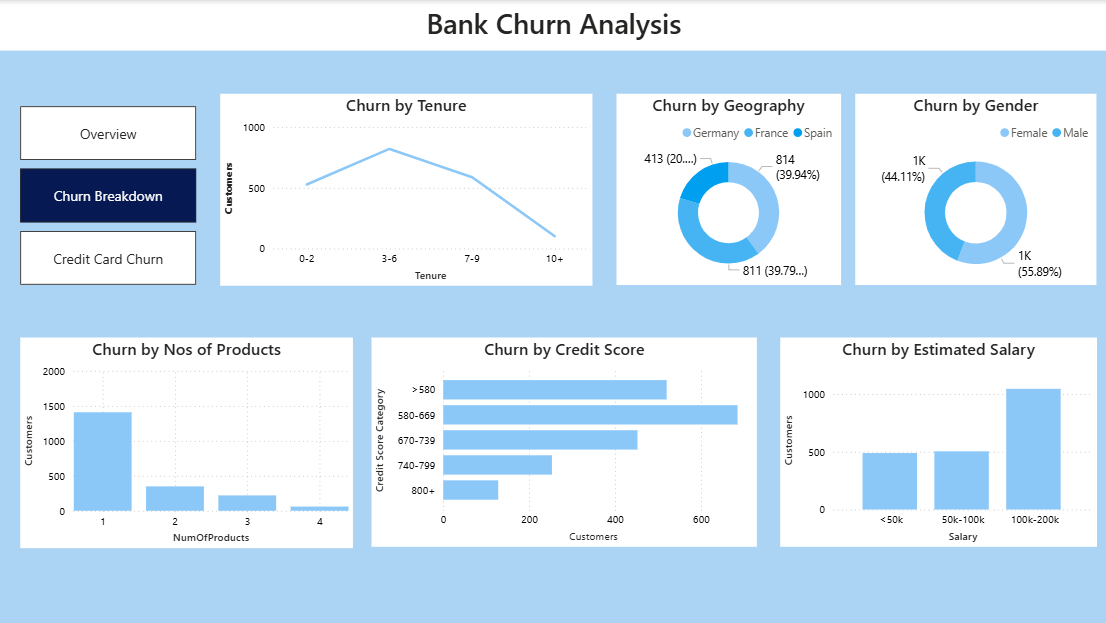

The dashboard page shown, as its layout file describes it:
{"tool":"powerbi","page":{"name":"Churn Breakdown","canvas":[1280,720],"ordinal":1},"visuals":[{"type":"textbox","box":[0,0,1280.4,58.7],"z":0},{"type":"clusteredBarChart","title":"Churn by Credit Score","fields":{"Y":["Measure.Customers Exited"],"Category":["Customer-Churn-Records.Credit Score Category"]},"box":[429.5,389.7,445.2,241.8],"z":1000},{"type":"donutChart","title":"Churn by Geography","fields":{"Category":["Geography.Geography"],"Y":["Measure.Customers Exited"]},"box":[712.5,108.1,258.8,220.4],"z":2000},{"type":"donutChart","title":"Churn by Gender","fields":{"Y":["Measure.Customers Exited"],"Category":["Gender.Gender"],"Series":["Exited.Exit  Status"]},"box":[988.4,108.1,278.8,220.4],"z":3000},{"type":"lineChart","title":"Churn by Tenure","fields":{"Y":["Measure.Customers Exited"],"Category":["Customer-Churn-Records.Tenure group"]},"box":[256,108.1,429.5,221.9],"z":4000},{"type":"pageNavigator","box":[24.5,122.6,203.4,207.8],"z":5000},{"type":"clusteredColumnChart","title":"Churn by Nos of Products","fields":{"Category":["Customer-Churn-Records.NumOfProducts"],"Y":["Measure.Customers Exited"]},"box":[24.2,389.7,384,243.2],"z":6000},{"type":"clusteredColumnChart","title":"Churn by Estimated Salary","fields":{"Y":["Measure.Customers Exited"],"Category":["Customer-Churn-Records.Salary grp"]},"box":[901.7,389.7,365.5,241.8],"z":7000}]}

Visuals, with their boxes in screenshot pixels (x1, y1, x2, y2), scaled from the page's 1280x720 canvas onto the 1106x623 screenshot:
textbox: box=[0, 0, 1105, 51]
"Churn by Credit Score" clusteredBarChart: box=[371, 337, 756, 546]
"Churn by Geography" donutChart: box=[616, 94, 839, 284]
"Churn by Gender" donutChart: box=[854, 94, 1095, 284]
"Churn by Tenure" lineChart: box=[221, 94, 592, 286]
pageNavigator: box=[21, 106, 197, 286]
"Churn by Nos of Products" clusteredColumnChart: box=[21, 337, 353, 548]
"Churn by Estimated Salary" clusteredColumnChart: box=[779, 337, 1095, 546]
